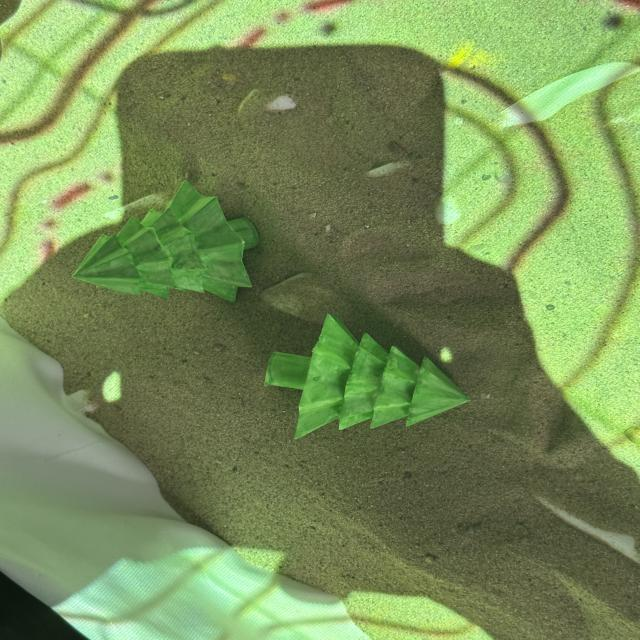tree: (265, 316, 470, 438), (74, 181, 254, 305)
